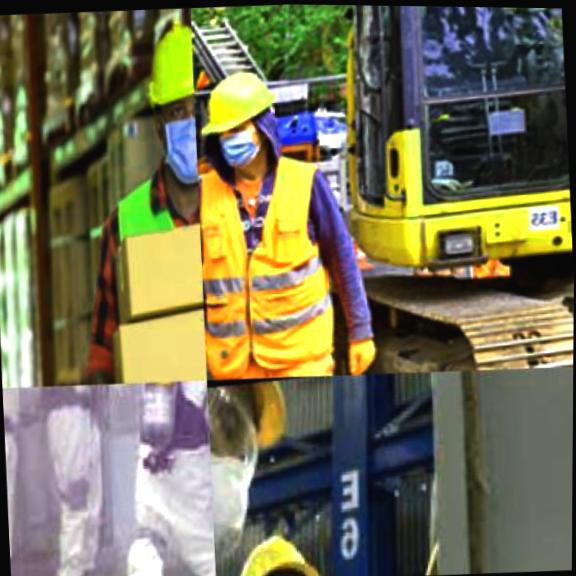safety_vest: (196, 151, 325, 380), (107, 161, 208, 383), (116, 379, 217, 576), (36, 383, 116, 551), (1, 386, 40, 576)
